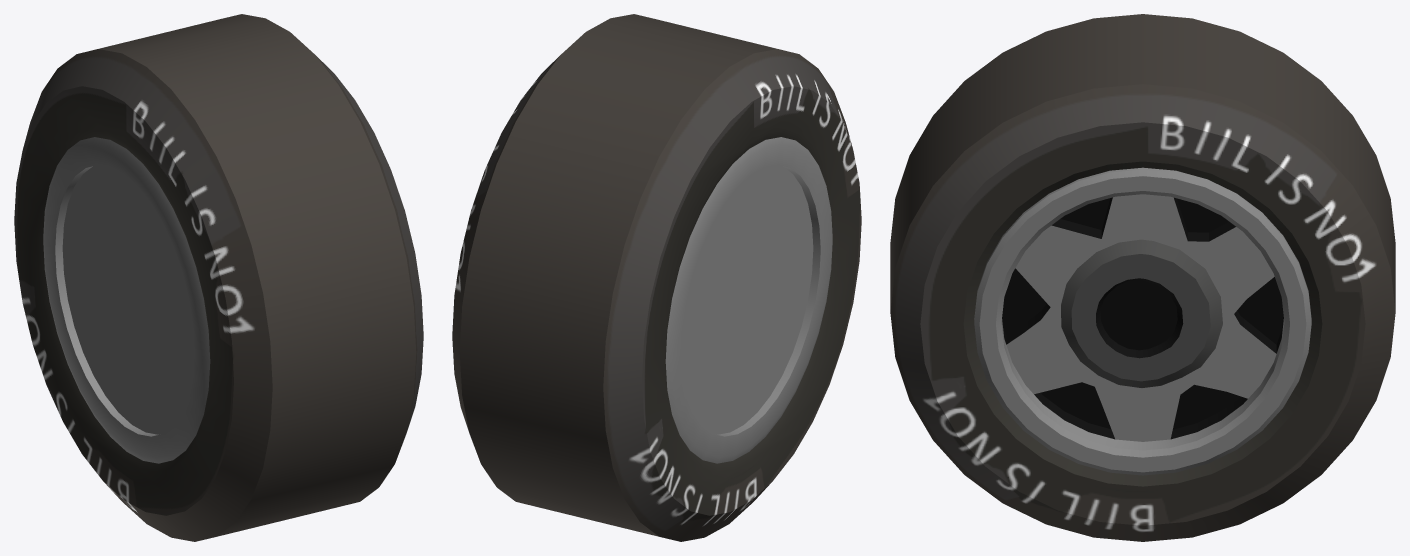
The model's file is tire2.gltf.
The picture shows the model from 3 angles, left to right: view 1: azimuth 30°, elevation 25°; view 2: azimuth 150°, elevation 25°; view 3: azimuth 270°, elevation 25°; orthographic projection.
Parts seen in each view (by area): view 1: Object_40; view 2: Object_40; view 3: Object_40.
Boxes of the visible parts, left/top/right/bottom form: Object_40: left=14, top=14, right=423, bottom=541; Object_40: left=452, top=14, right=861, bottom=541; Object_40: left=890, top=14, right=1395, bottom=541.
Size of the model in its own units: 0.3569 by 0.8254 by 0.8254.
1 material, 1 textured.
